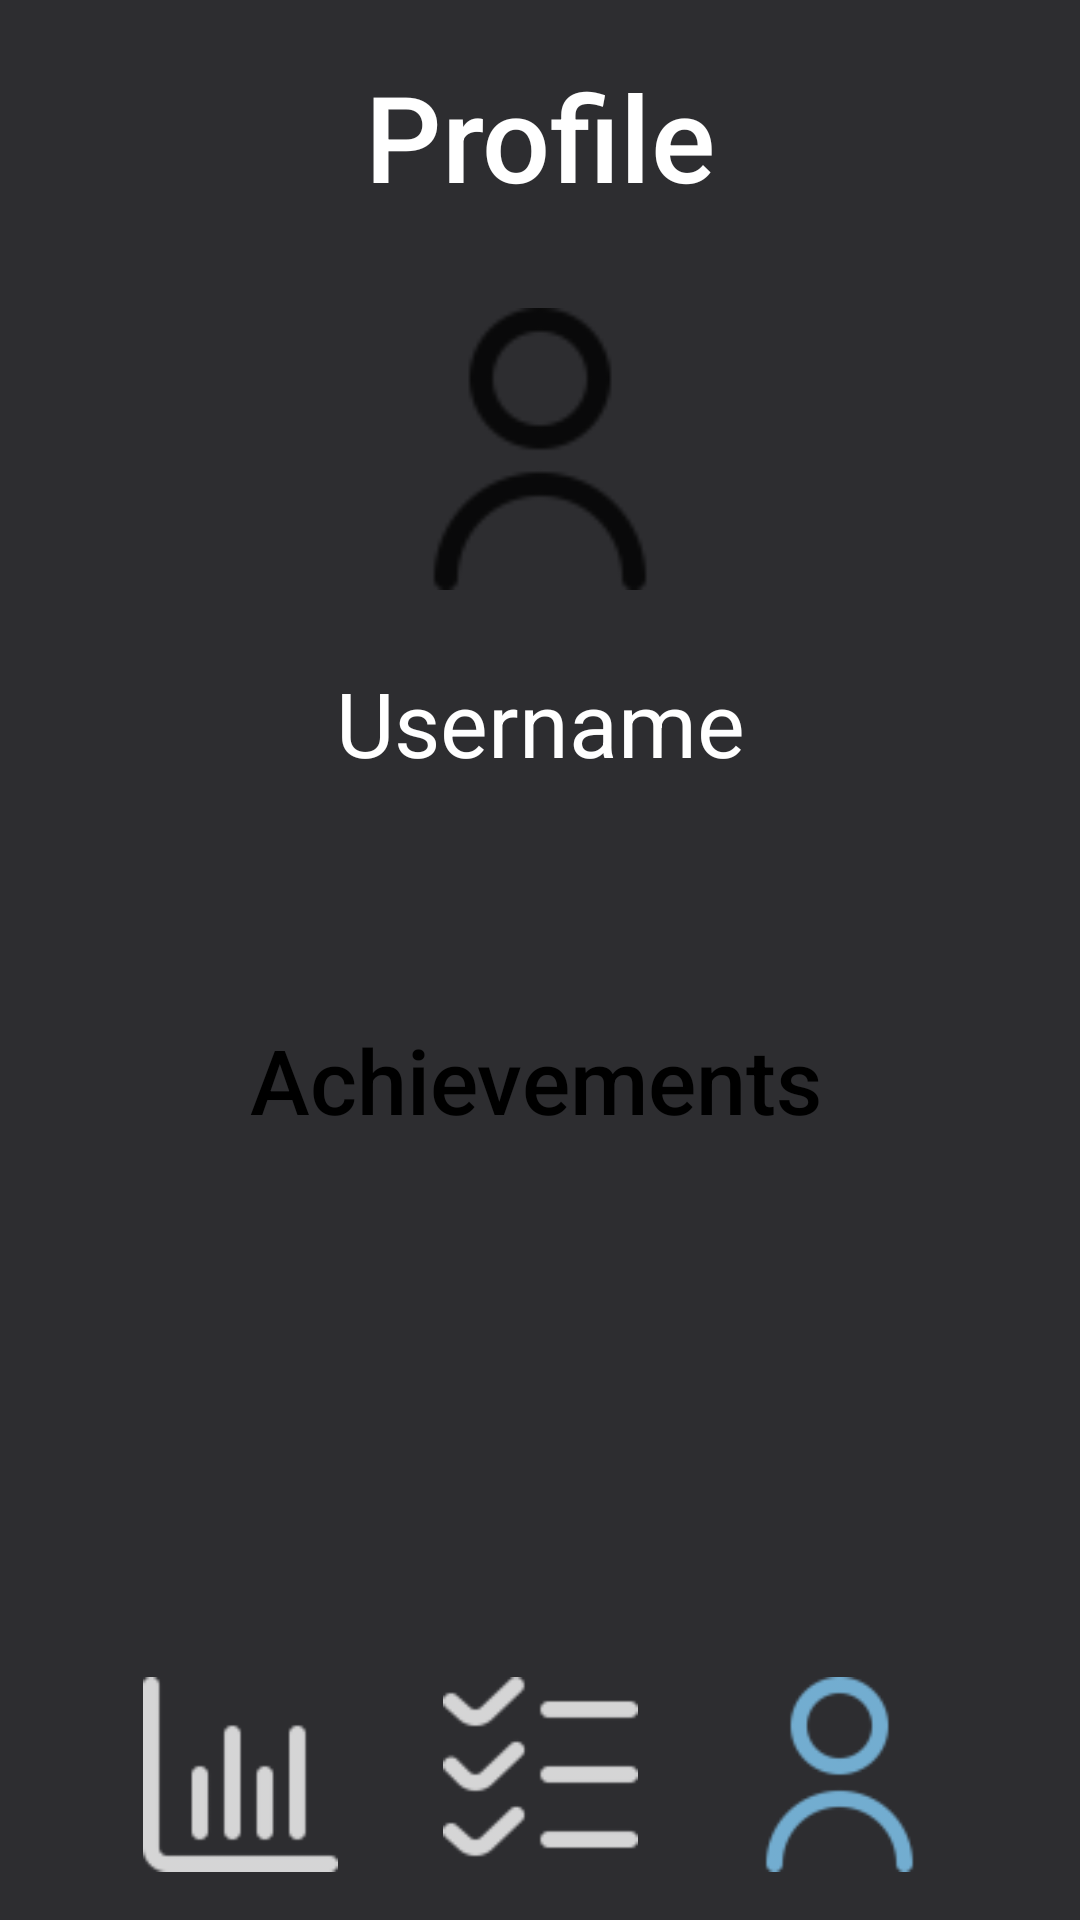

Where icons sit on this 1080×1920 app screen, as (left=x1, top=y1, right=x2, bottom=y2):
profileblue: (left=765, top=1677, right=914, bottom=1872)
